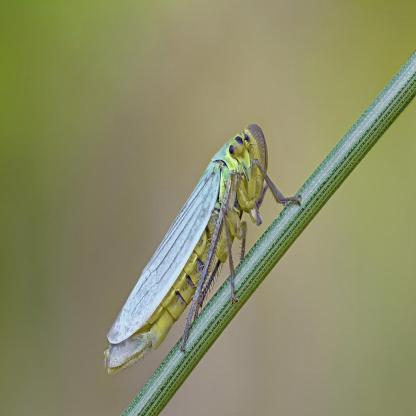Green-Leafhopper: (74, 91, 322, 402)
